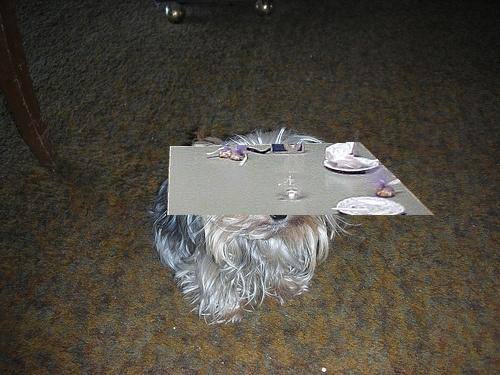tampered: (167, 143, 435, 215)
